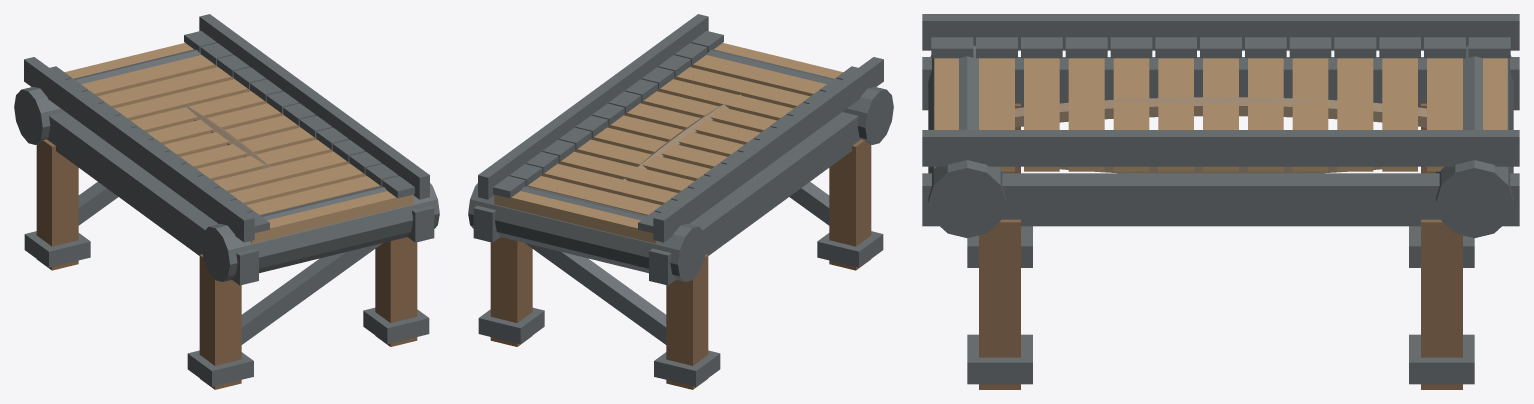
Rendered from vf_iron_belt_2m.glb.
3 views of the same model, side by side, from view 1: azimuth 30°, elevation 25°; view 2: azimuth 150°, elevation 25°; view 3: azimuth 270°, elevation 25° (orthographic). The views are drawn at different scales.
Visible parts, largest first — view 1: Static_Iron, Static_OakLight, Static_Oak, Roller_Front_Iron, Roller_Rear_Iron, Belt_Surface_Hide; view 2: Static_Iron, Static_OakLight, Static_Oak, Roller_Rear_Iron, Roller_Front_Iron, Belt_Surface_Hide; view 3: Static_Iron, Static_OakLight, Static_Oak, Roller_Rear_Iron, Roller_Front_Iron, Belt_Surface_Hide.
Boxes of the visible parts, x1=… form: Static_Iron: x1=24, y1=14, x2=434, y2=386; Static_OakLight: x1=65, y1=43, x2=413, y2=243; Static_Oak: x1=36, y1=139, x2=417, y2=389; Roller_Front_Iron: x1=201, y1=183, x2=439, y2=281; Roller_Rear_Iron: x1=14, y1=49, x2=201, y2=144; Belt_Surface_Hide: x1=166, y1=94, x2=285, y2=180; Static_Iron: x1=473, y1=14, x2=883, y2=386; Static_OakLight: x1=494, y1=43, x2=842, y2=243; Static_Oak: x1=490, y1=139, x2=871, y2=389; Roller_Rear_Iron: x1=468, y1=183, x2=706, y2=281; Roller_Front_Iron: x1=706, y1=49, x2=893, y2=144; Belt_Surface_Hide: x1=622, y1=94, x2=741, y2=180; Static_Iron: x1=922, y1=14, x2=1519, y2=384; Static_OakLight: x1=934, y1=58, x2=1507, y2=171; Static_Oak: x1=979, y1=103, x2=1462, y2=389; Roller_Rear_Iron: x1=1436, y1=45, x2=1513, y2=238; Roller_Front_Iron: x1=928, y1=45, x2=1005, y2=238; Belt_Surface_Hide: x1=1015, y1=97, x2=1426, y2=173.
Bounding box in the file's own units: 1.14 × 0.915 × 2.
